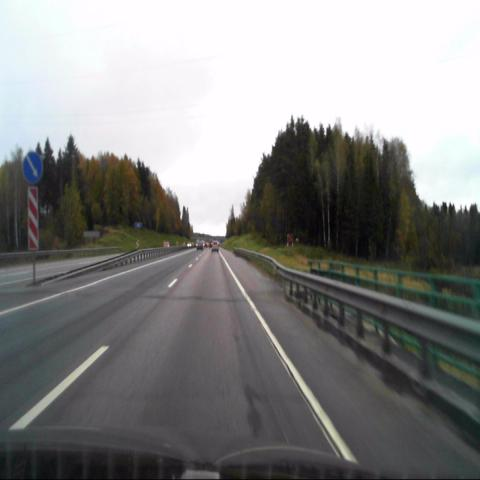4_2_1: (24, 152, 42, 184)
